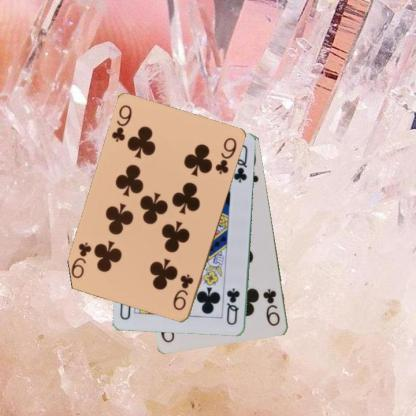9c: (109, 102, 134, 144), (170, 272, 195, 312), (260, 286, 282, 328)
Qc: (224, 286, 241, 326)
